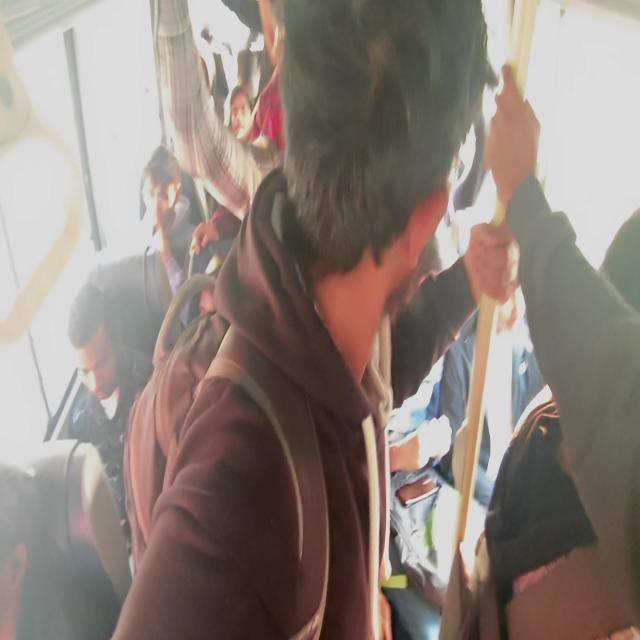person: (79, 248, 337, 626), (471, 194, 637, 638), (65, 270, 163, 541), (434, 286, 544, 501), (139, 144, 209, 311), (219, 84, 279, 224), (237, 2, 285, 151), (436, 321, 474, 467), (188, 230, 239, 322), (0, 465, 38, 587), (600, 211, 640, 323), (452, 114, 489, 218), (199, 25, 235, 122), (66, 281, 113, 349), (78, 330, 117, 394), (146, 246, 175, 328), (196, 198, 242, 248), (411, 232, 442, 302), (142, 146, 177, 197), (236, 47, 260, 97), (495, 292, 520, 337), (142, 178, 166, 218), (229, 84, 252, 116), (200, 26, 213, 46), (221, 41, 233, 58)
